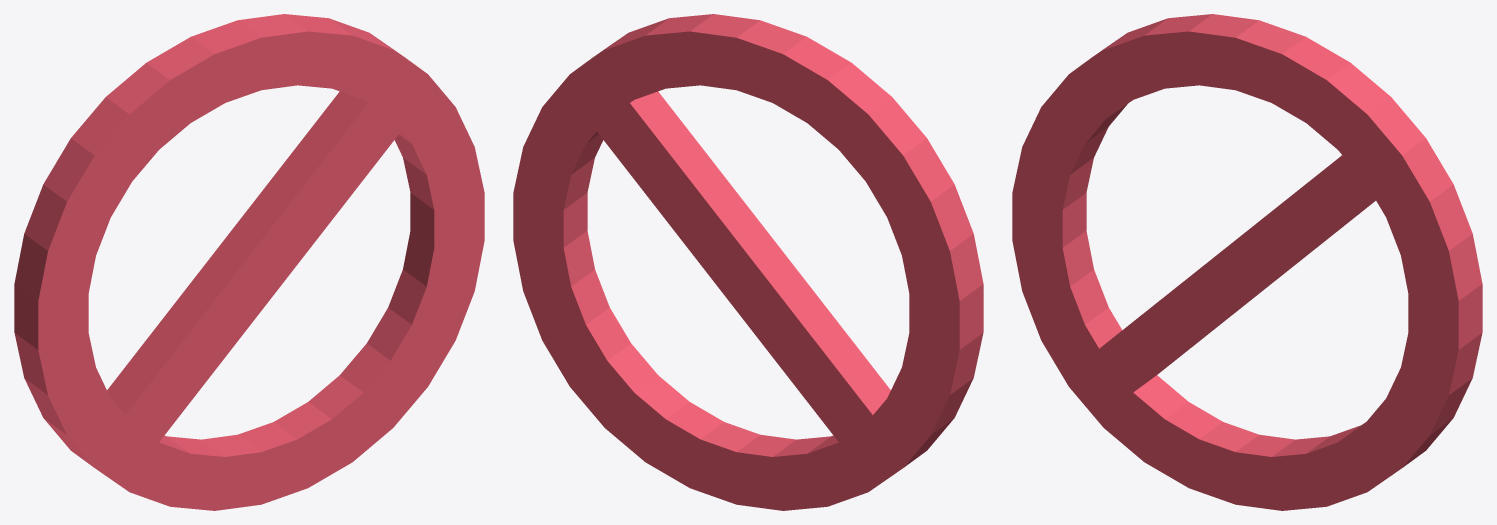
The model's file is warn.glb.
3 views of the same model, side by side, from view 1: azimuth 30°, elevation 25°; view 2: azimuth 150°, elevation 25°; view 3: azimuth 330°, elevation 25° (orthographic).
Parts seen in each view (by area): view 1: obj_0; view 2: obj_0; view 3: obj_0.
Part boxes in pixels (box(x1,y1,x2,y2)): obj_0: box(14, 14, 484, 510); obj_0: box(513, 14, 983, 510); obj_0: box(1012, 14, 1482, 510).
Size of the model in its own units: 54 by 54 by 5.
